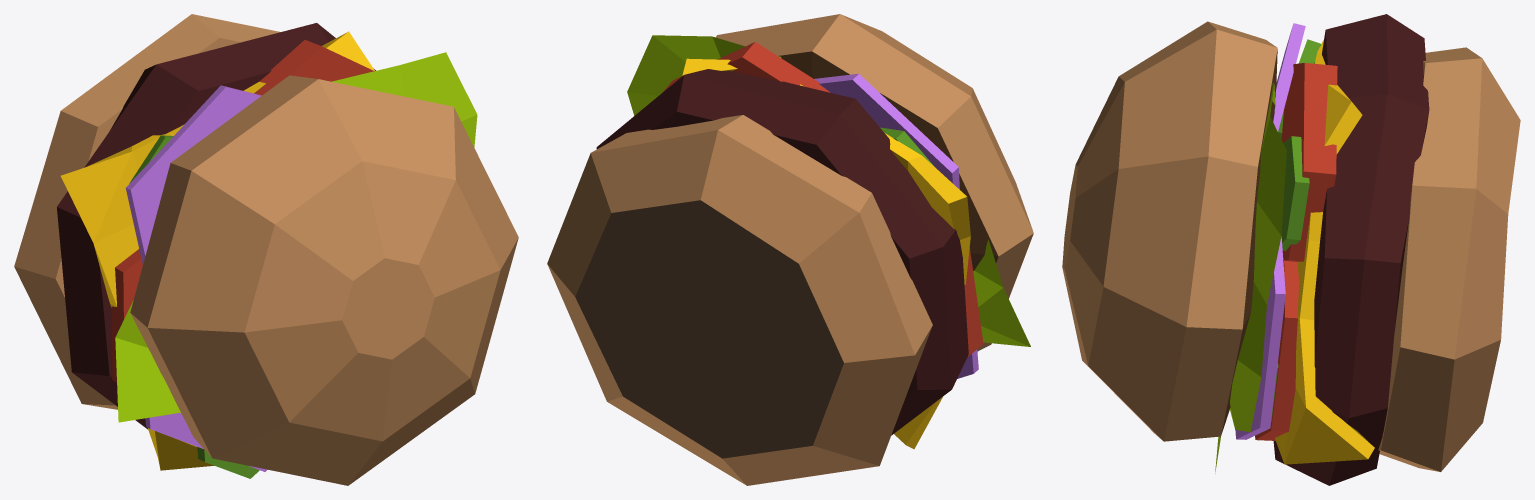
The model's file is Burger_Consu.glb.
3 views of the same model, side by side, from view 1: azimuth 30°, elevation 25°; view 2: azimuth 150°, elevation 25°; view 3: azimuth 270°, elevation 25° (orthographic). The views are drawn at different scales.
Parts seen in each view (by area): view 1: BurgerHighPoly; view 2: BurgerHighPoly; view 3: BurgerHighPoly.
Boxes of the visible parts, bbox=[...] form: BurgerHighPoly: bbox=[14, 14, 518, 485]; BurgerHighPoly: bbox=[547, 14, 1033, 485]; BurgerHighPoly: bbox=[1062, 14, 1520, 485].
Bounding box in the file's own units: 0.1942 × 0.1961 × 0.1857.
Materials: 1 (1 with a texture image).
